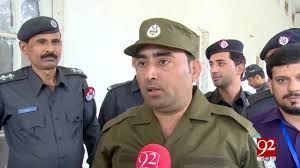uniform: (2, 58, 95, 163)
